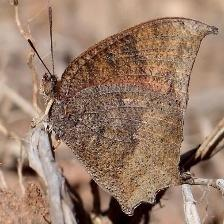butterfly: (41, 18, 219, 216)
